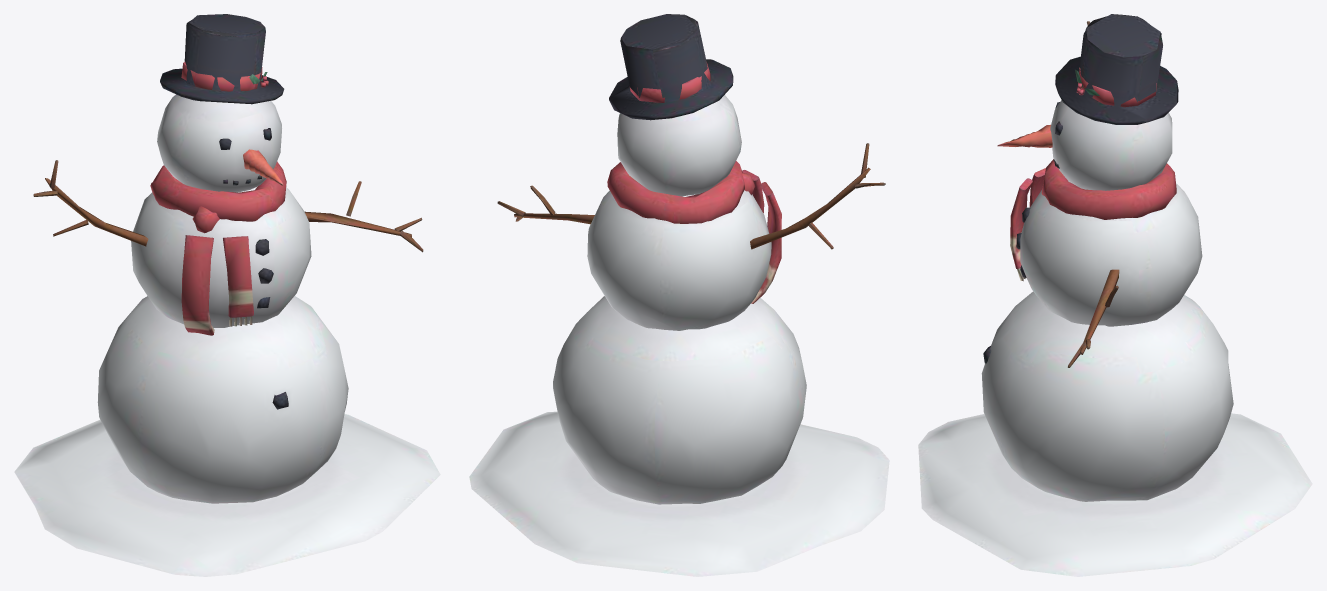
File: snowman.glb
3 renders of one model, left to right at view 1: azimuth 30°, elevation 25°; view 2: azimuth 150°, elevation 25°; view 3: azimuth 270°, elevation 25°, orthographic.
Parts seen in each view (by area): view 1: snowman_body; view 2: snowman_body; view 3: snowman_body.
Part boxes in pixels (bbox=[...]): snowman_body: bbox=[14, 14, 440, 576]; snowman_body: bbox=[469, 14, 889, 576]; snowman_body: bbox=[918, 14, 1312, 576].
Size of the model in its own units: 1.41 by 1.6 by 1.24.
1 material, 1 textured.
